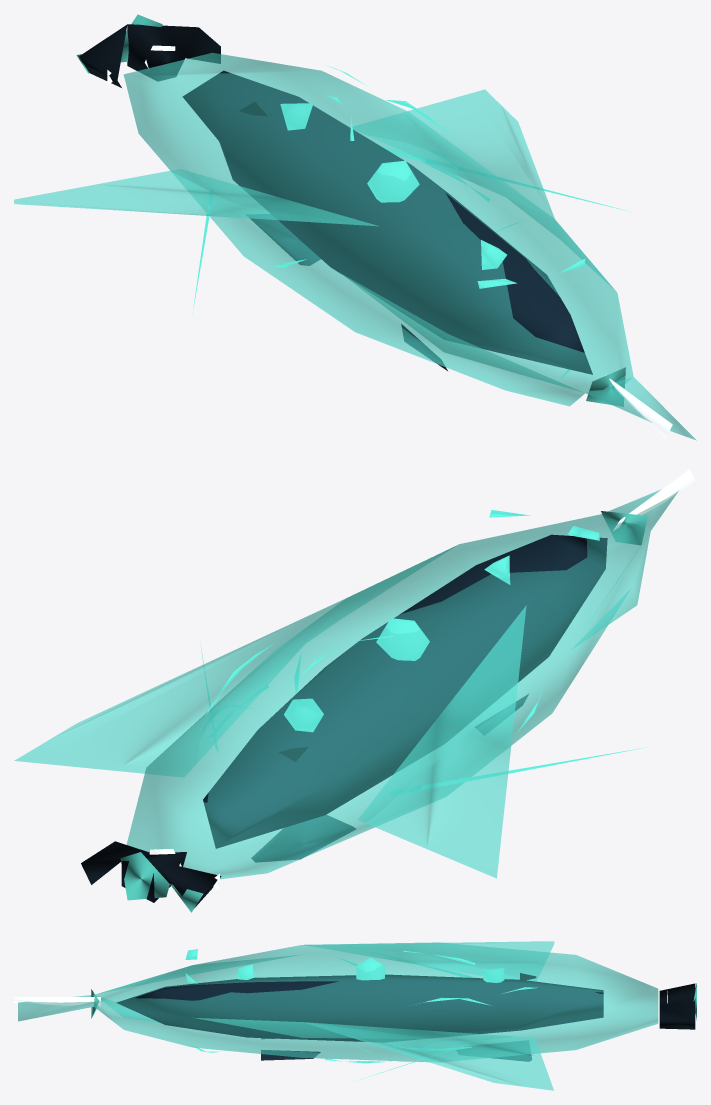
Rendered from refleks-swietlisci-trade-19-lod2.glb.
3 renders of one model, top to bottom at view 1: azimuth 30°, elevation 25°; view 2: azimuth 150°, elevation 25°; view 3: azimuth 270°, elevation 25°, orthographic. The views are drawn at different scales.
Size of the model in its own units: 9.1 by 2.95 by 17.91.
